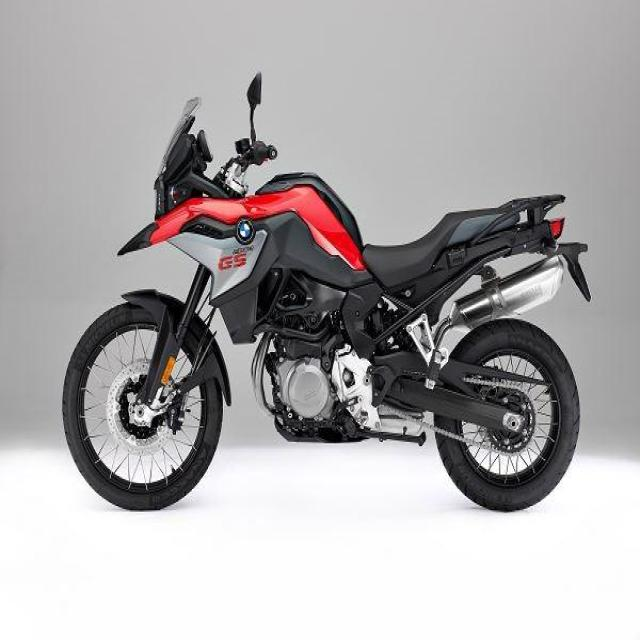Motorcycle: (62, 108, 591, 511)
